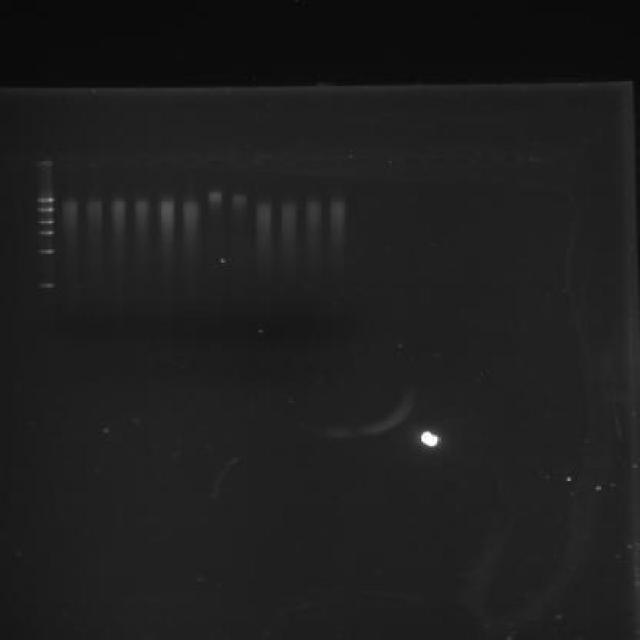B: (205, 190, 224, 204), (229, 193, 248, 207)
L: (26, 149, 548, 171)
M: (30, 175, 59, 298)
P: (36, 228, 56, 238), (34, 281, 56, 290), (36, 247, 56, 255), (34, 205, 54, 213), (34, 196, 54, 204), (36, 218, 56, 225)
Pc: (228, 153, 254, 169), (254, 153, 277, 169), (524, 151, 547, 167), (348, 154, 374, 168), (278, 153, 300, 169), (178, 154, 202, 168), (374, 154, 398, 168), (472, 153, 496, 167), (498, 152, 522, 166), (423, 154, 446, 168), (32, 154, 54, 168), (82, 154, 104, 168), (106, 154, 128, 168), (303, 153, 325, 167), (326, 154, 348, 168), (398, 154, 420, 168), (448, 153, 470, 167), (154, 155, 177, 168), (58, 154, 78, 168), (206, 154, 226, 168), (132, 156, 151, 169)
